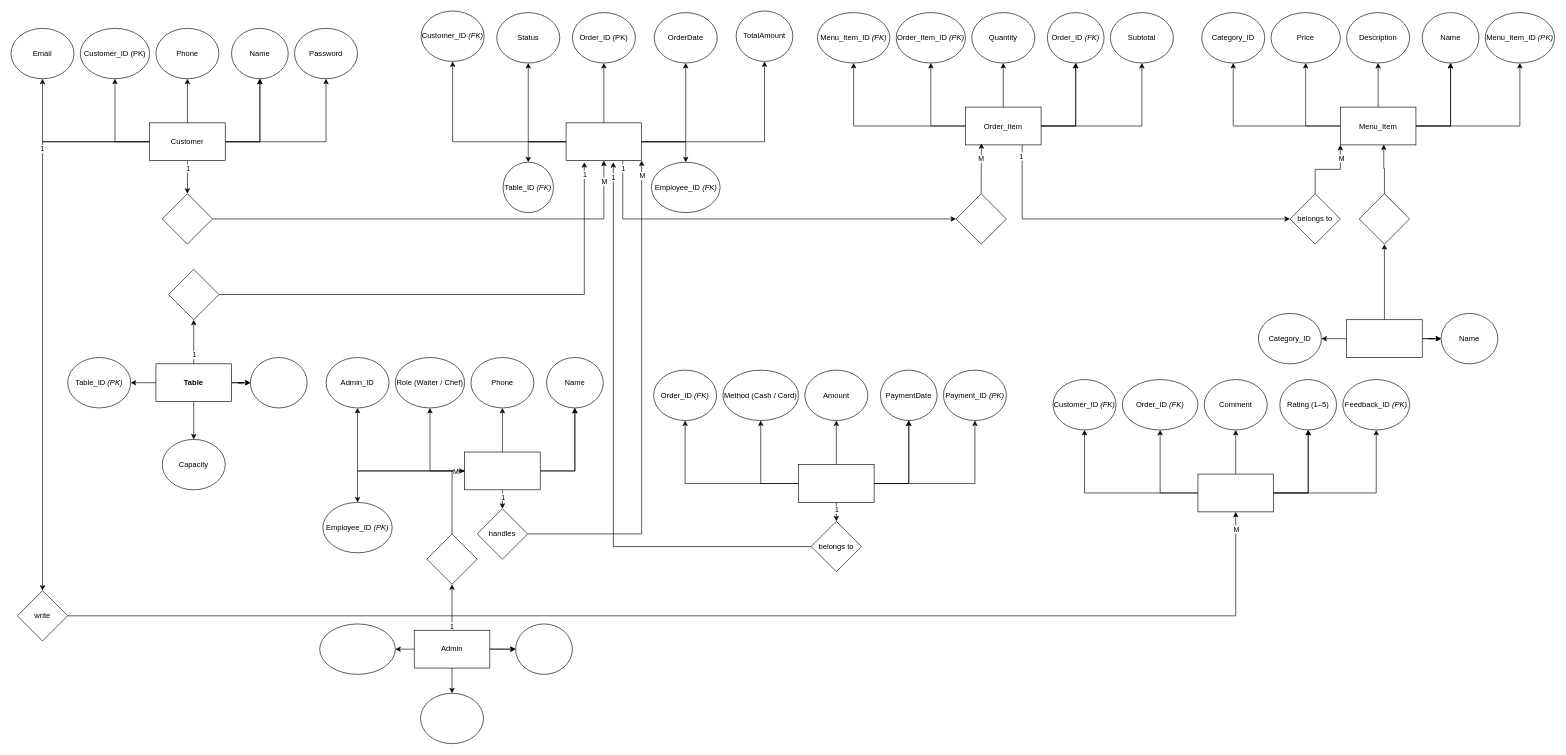
Some shapes in this 1566 by 755 pixel diagram are drawn without their labels. Each missing label, with the box of its shape:
Admin_ID (PK): (420, 693, 484, 744)
assigned: (168, 269, 219, 320)
Category: (1346, 319, 1422, 358)
Contains: (955, 193, 1006, 244)
Employee: (464, 451, 540, 490)
Feedback: (1197, 473, 1274, 512)
has: (1359, 193, 1410, 244)
manages: (426, 533, 477, 584)
Order: (565, 122, 642, 161)
Order_ID: (319, 623, 395, 674)
Payment: (798, 464, 874, 502)
places: (162, 193, 213, 244)
TableNumber: (250, 357, 307, 408)
Username: (515, 623, 572, 674)
